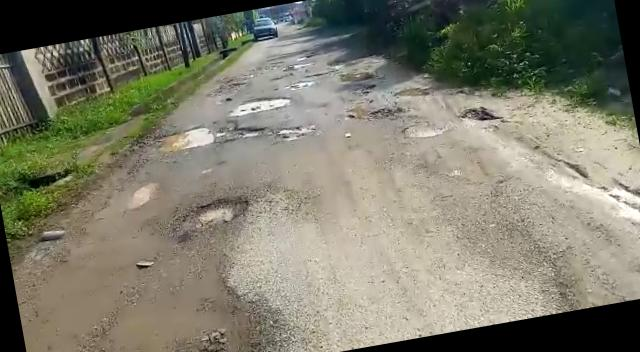pothole: (158, 112, 270, 156), (168, 191, 256, 240), (227, 90, 294, 117), (272, 118, 320, 142)
